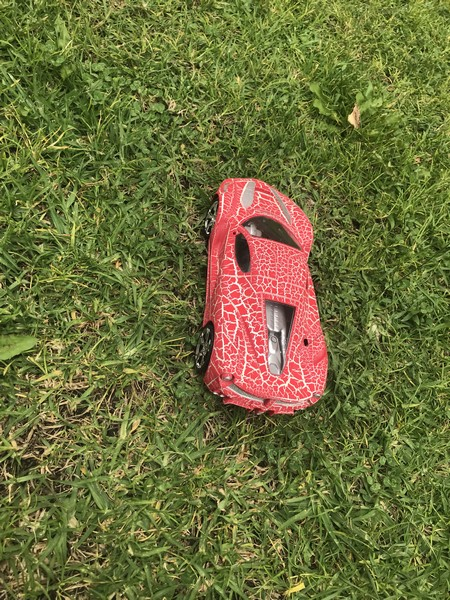RC: (193, 176, 331, 420)
